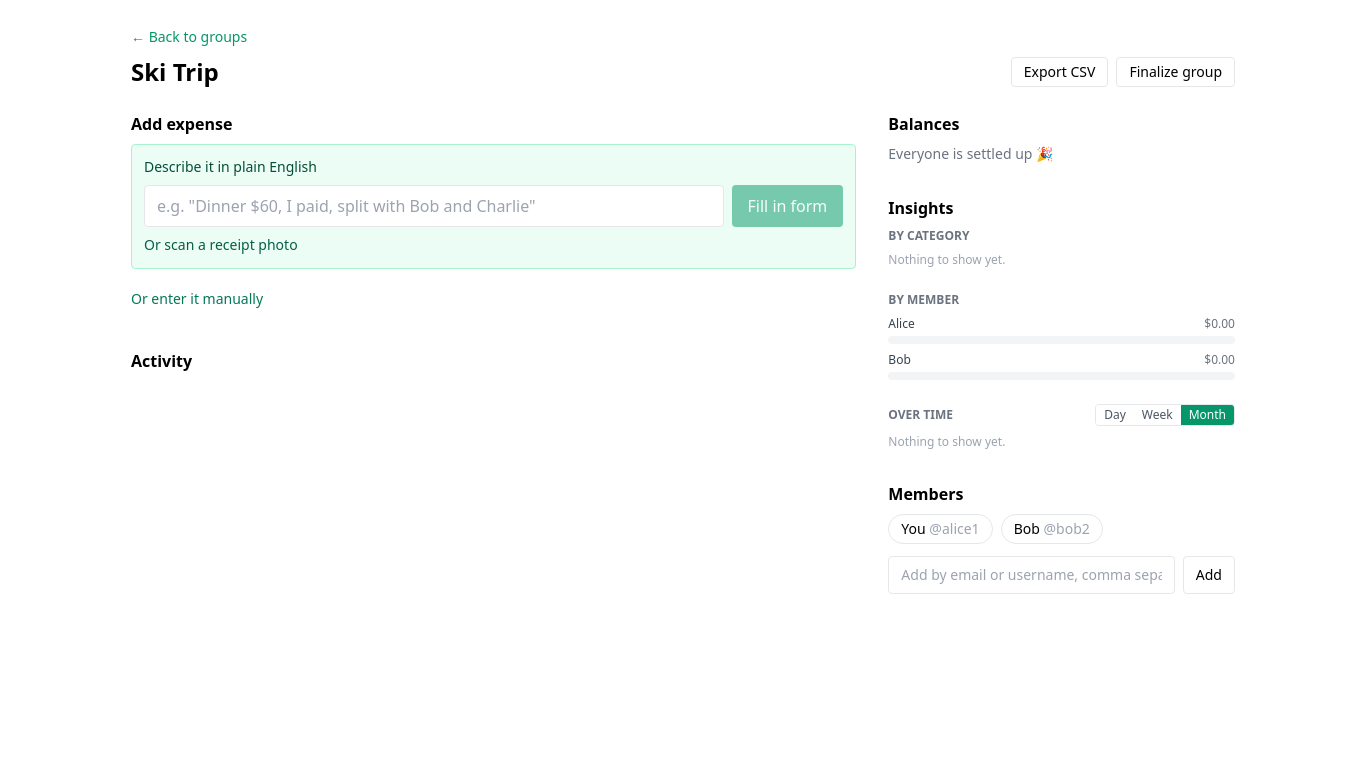
Test: GroupPage - adding an expense › rejects an amount with more precision than a cent
Expected: the heading "Ski Trip" is shown, x1=131 y1=56 x2=219 y2=88
Click the button "Or enter it manually": (197,299) x1=131 y1=281 x2=263 y2=317
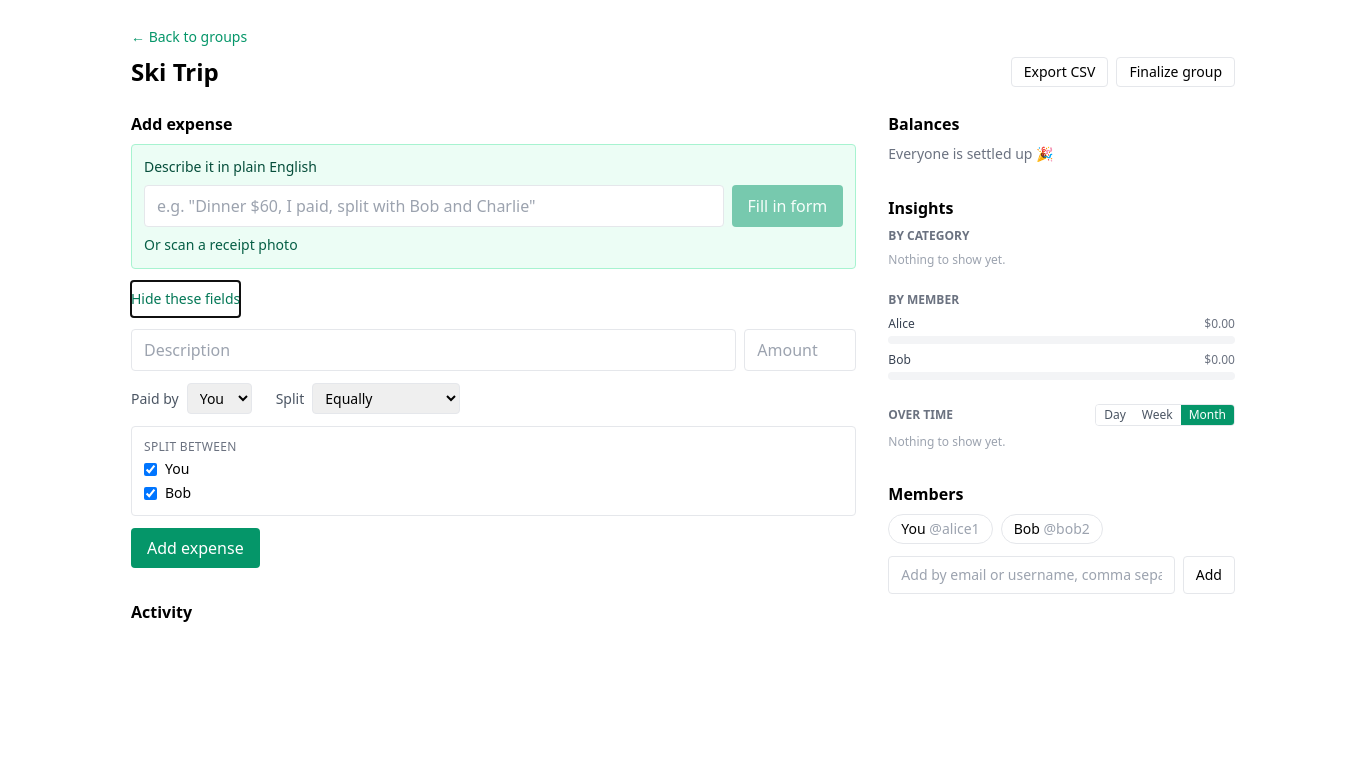
In the field with placeholder "Description": (434,350) x1=131 y1=329 x2=736 y2=371, type "Odd"
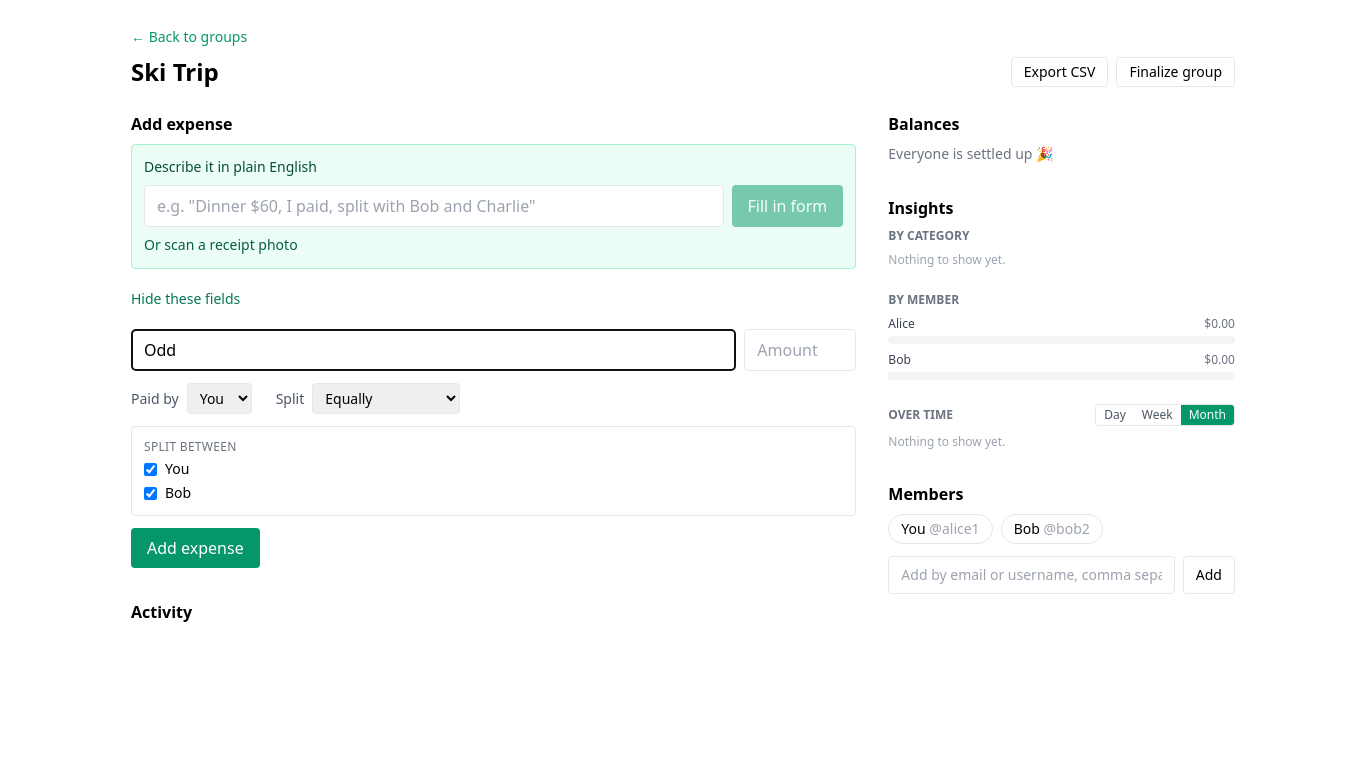
In the number field with placeholder "Amount": (800,350) x1=744 y1=329 x2=856 y2=371, type "10.234"
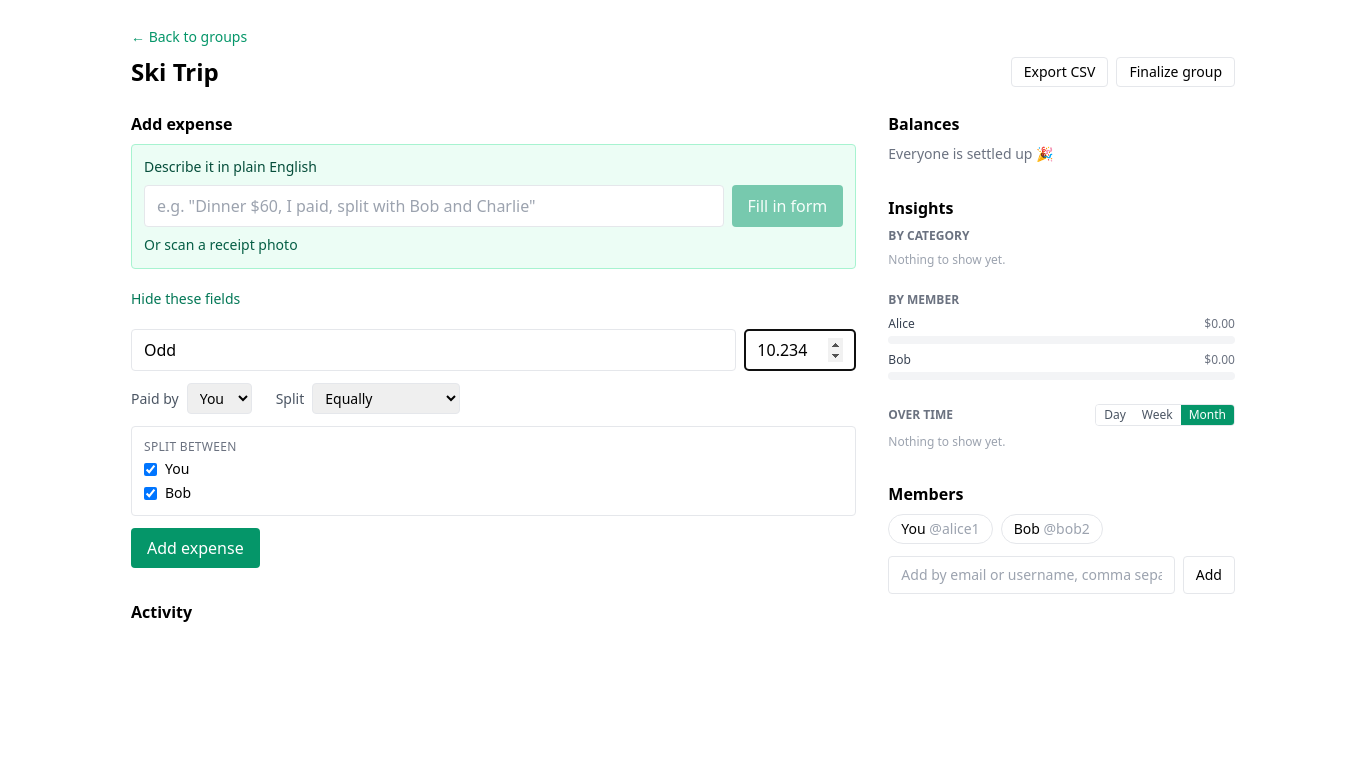
Click the button "Add expense": (195,548) x1=131 y1=528 x2=260 y2=568
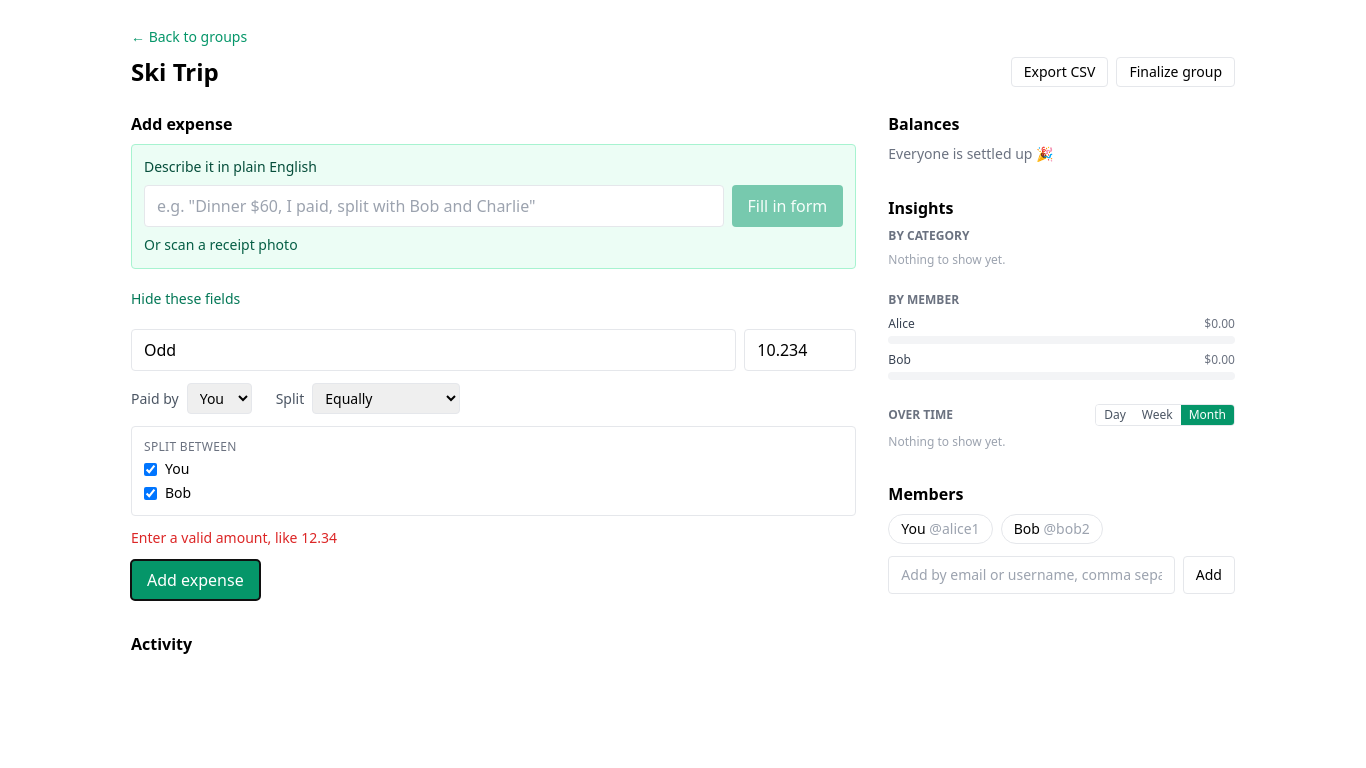
Expected: the text "Enter a valid amount, like 12.34" is shown, x1=131 y1=528 x2=337 y2=547
